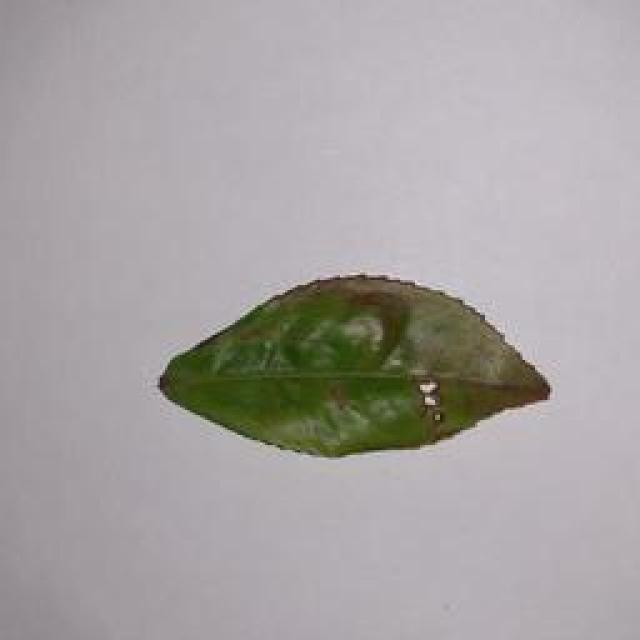Red Leaf Spot: (145, 255, 560, 469)
